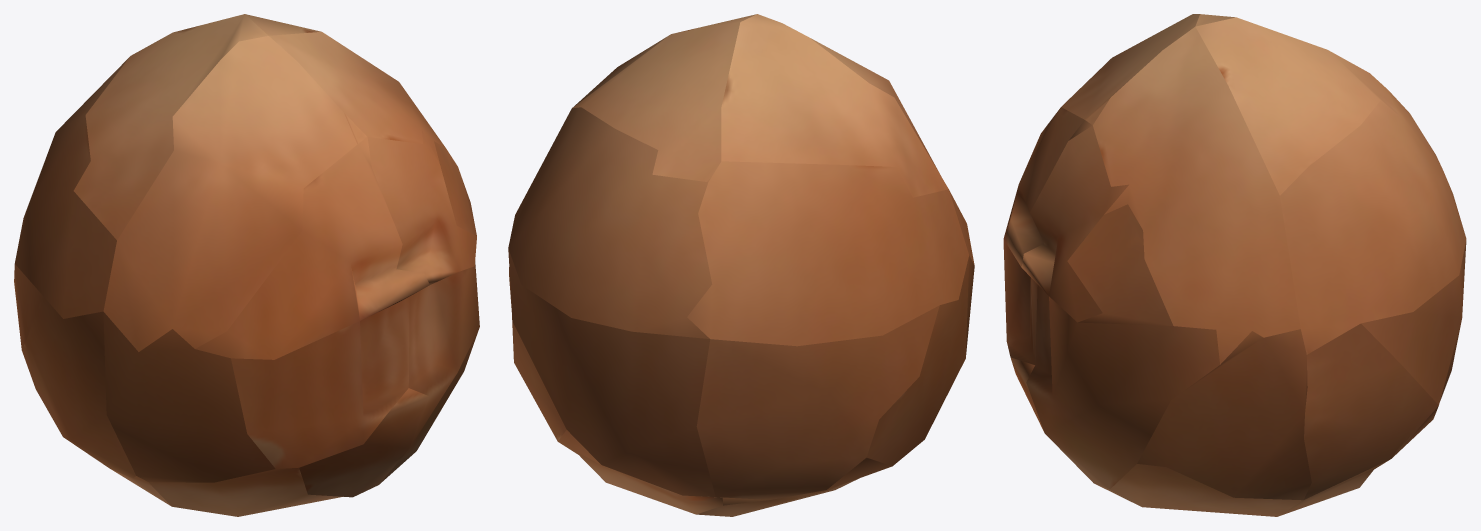
The model's file is Granary_lod.glb.
The picture shows the model from 3 angles, left to right: view 1: azimuth 30°, elevation 25°; view 2: azimuth 150°, elevation 25°; view 3: azimuth 270°, elevation 25°; orthographic projection.
Parts seen in each view (by area): view 1: Granary; view 2: Granary; view 3: Granary.
Part boxes in pixels (x1,y1,x2,y2): Granary: (14,14,479,516); Granary: (508,14,974,516); Granary: (1003,14,1466,516).
Bounding box in the file's own units: 0.9935 × 1.08 × 0.9761.
Materials: 1 (1 with a texture image).
